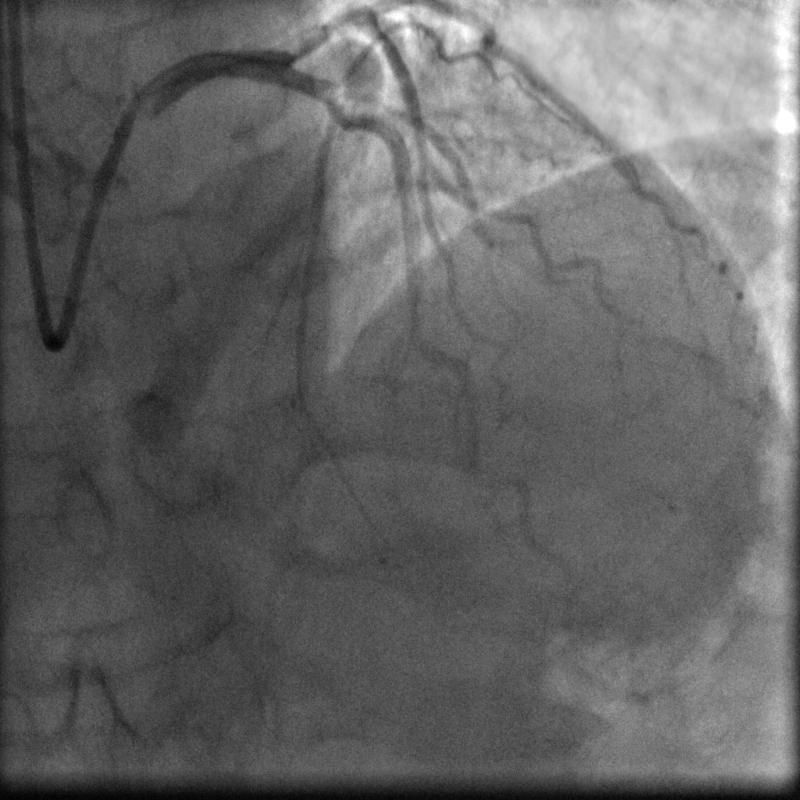Stenosis: (269, 27, 333, 60)
